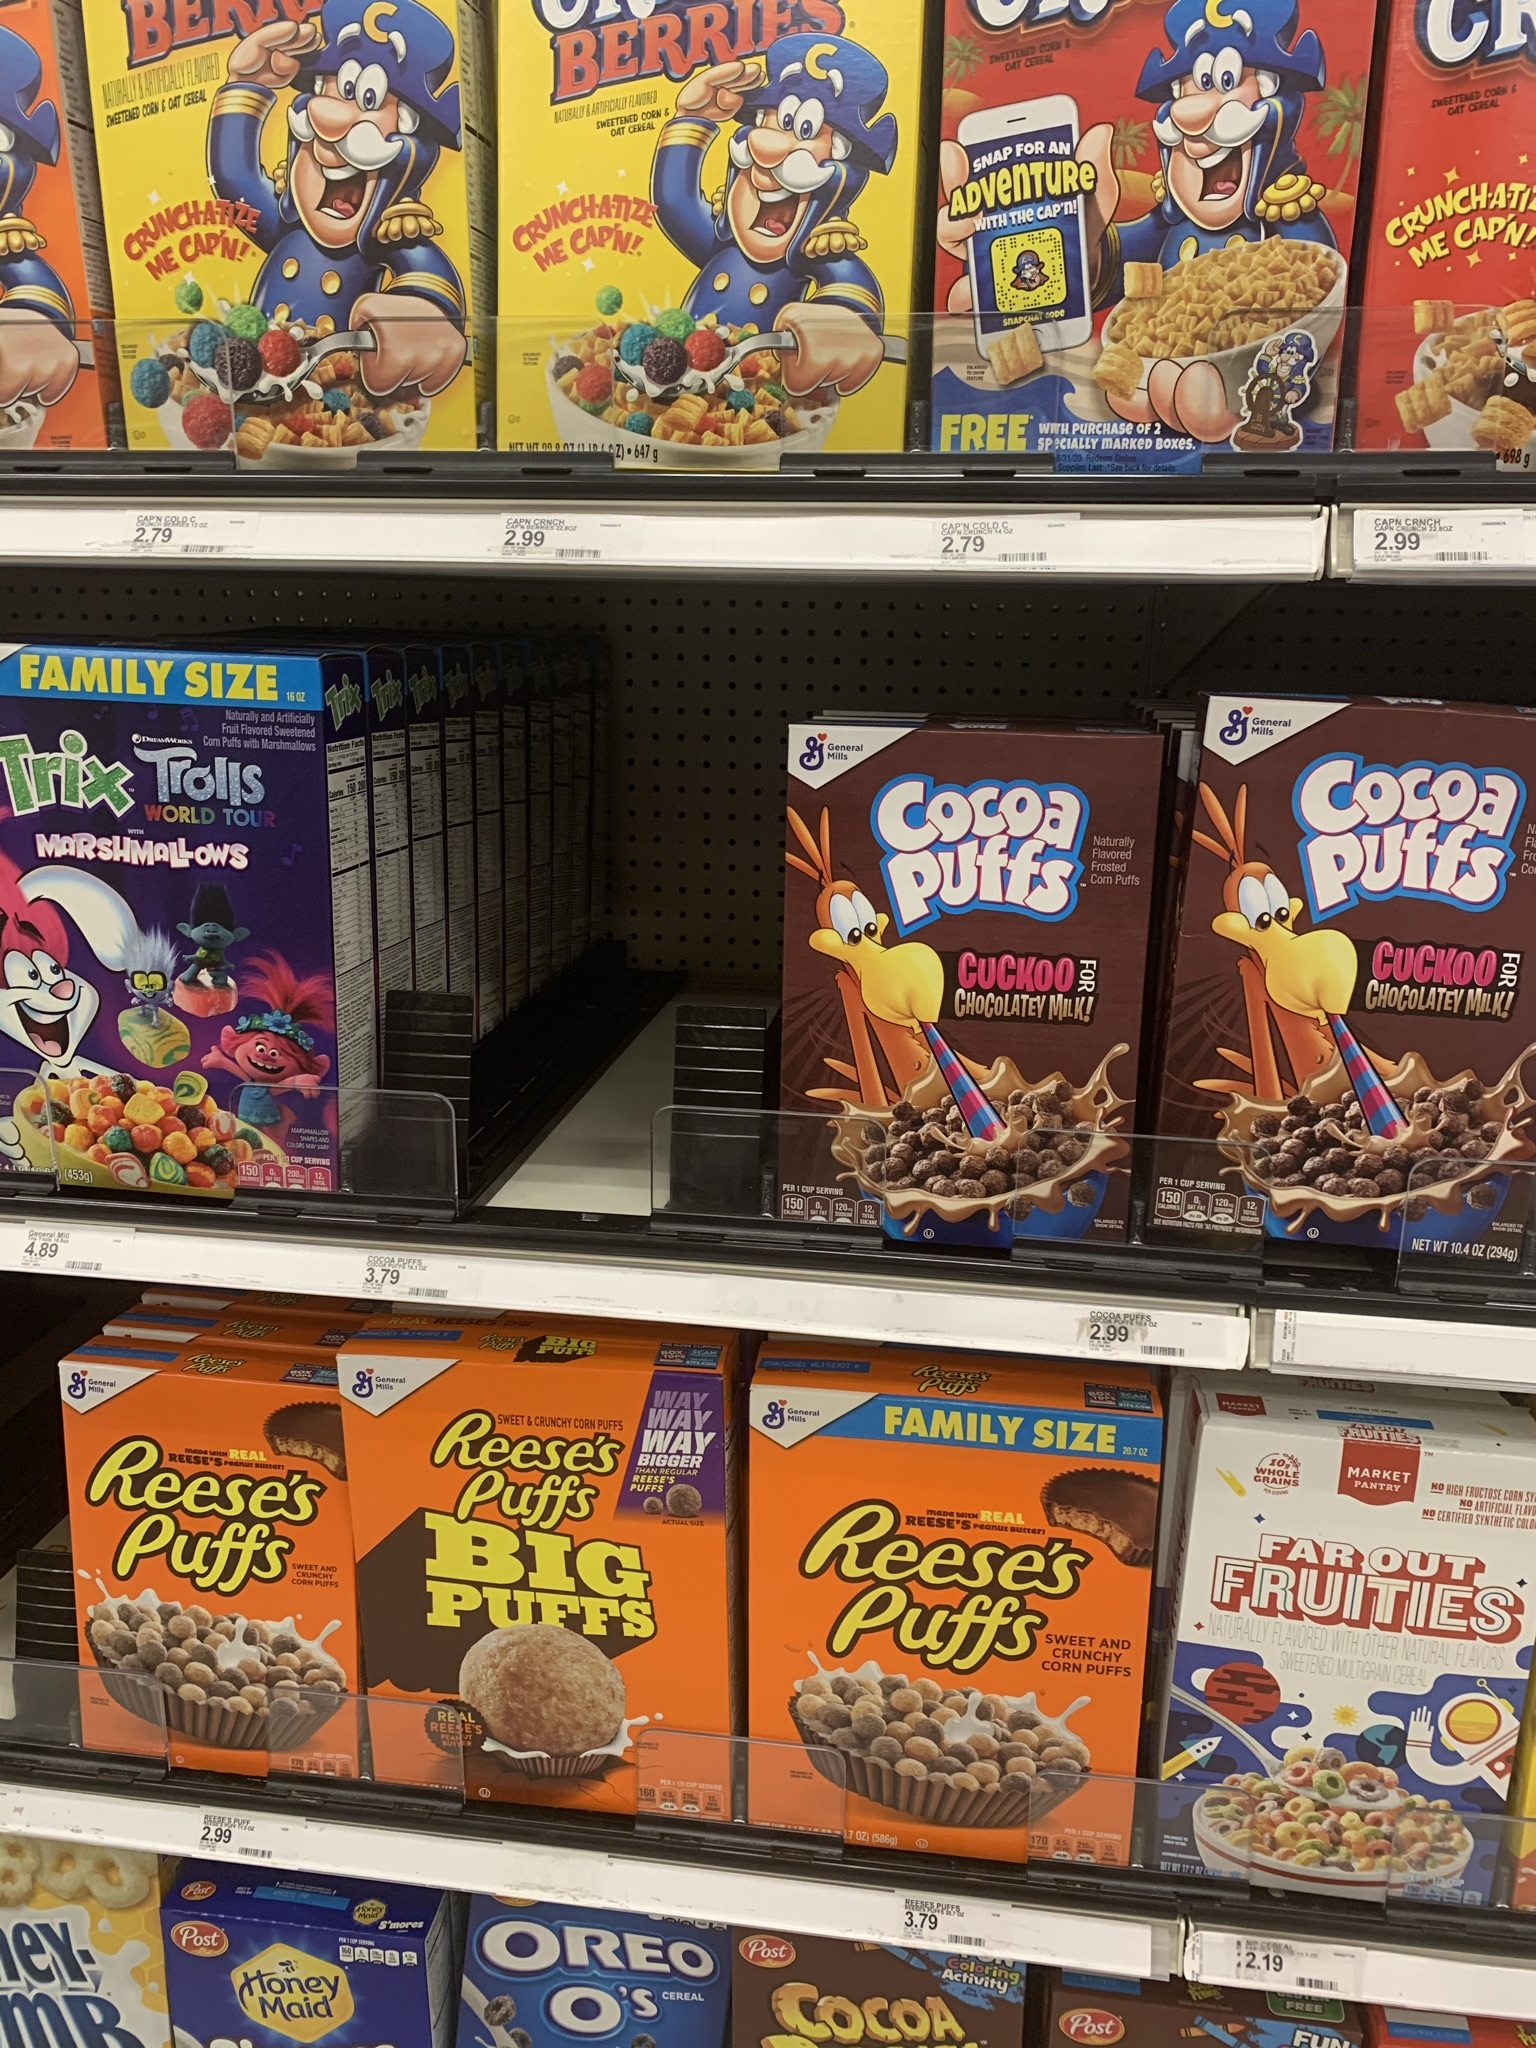cereal: (1176, 700, 1536, 1308), (784, 727, 1144, 1264), (344, 1356, 744, 1837), (490, 2, 899, 461), (2, 653, 331, 1205), (745, 1385, 1117, 1872), (950, 8, 1334, 476), (81, 2, 471, 461), (1187, 1427, 1499, 1904), (52, 1351, 361, 1793)
